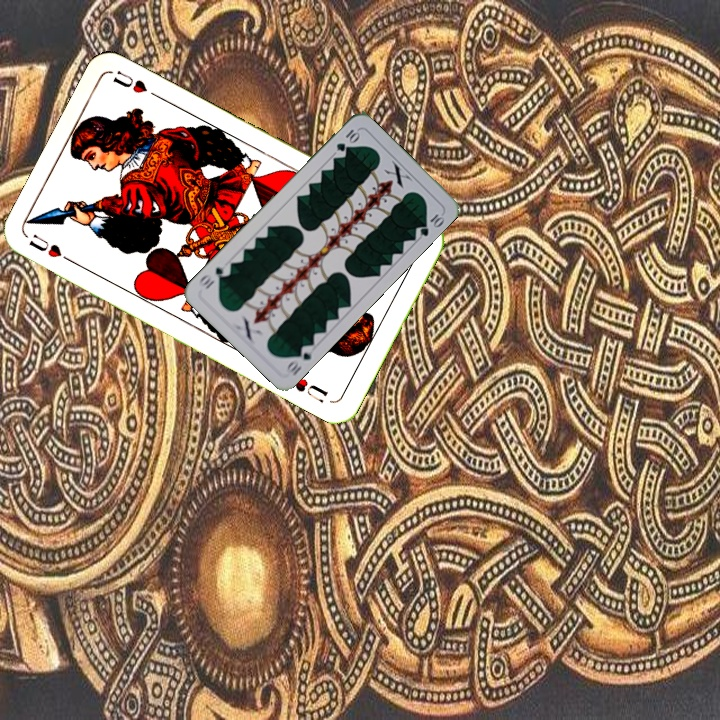G10: (281, 341, 317, 379), (332, 125, 362, 154)
HU: (25, 230, 78, 267)
